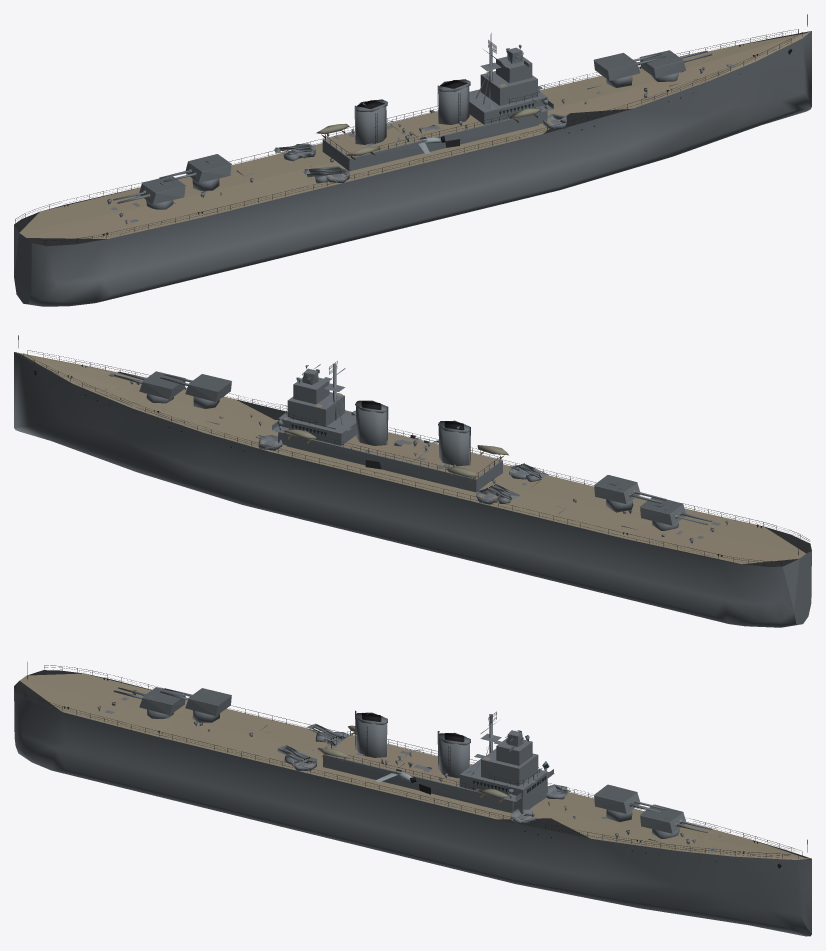
Rendered from perth_lod.glb.
3 renders of one model, top to bottom at view 1: azimuth 30°, elevation 25°; view 2: azimuth 150°, elevation 25°; view 3: azimuth 330°, elevation 25°, orthographic.
Visible parts, largest first — view 1: perth_lod; view 2: perth_lod; view 3: perth_lod.
Boxes of the visible parts, x1,y1,x2,y2 form: perth_lod: (14, 14, 811, 306); perth_lod: (14, 335, 811, 627); perth_lod: (14, 662, 811, 936).
Size of the model in its own units: 171 by 33.51 by 18.42.
